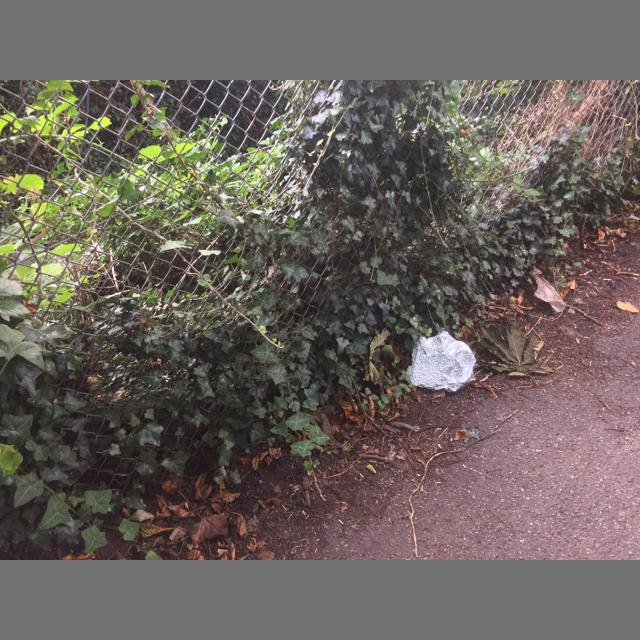litter: (407, 331, 477, 393), (529, 267, 565, 313)
